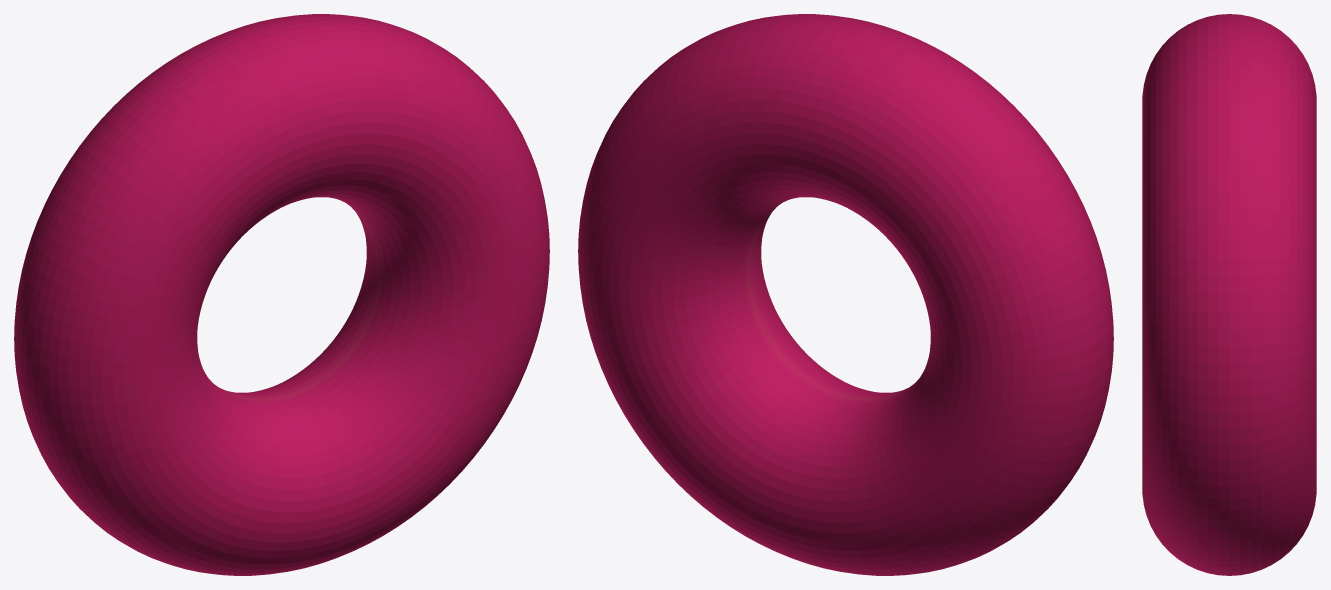
3 views of the same model, side by side, from view 1: azimuth 30°, elevation 25°; view 2: azimuth 150°, elevation 25°; view 3: azimuth 270°, elevation 25° (orthographic). The views are drawn at different scales.
Parts seen in each view (by area): view 1: world; view 2: world; view 3: world.
Boxes of the visible parts, x1,y1,x2,y2 form: world: [14, 14, 549, 575]; world: [578, 14, 1113, 575]; world: [1142, 14, 1316, 575].
Bounding box in the file's own units: 19.33 × 19.33 × 5.99.
